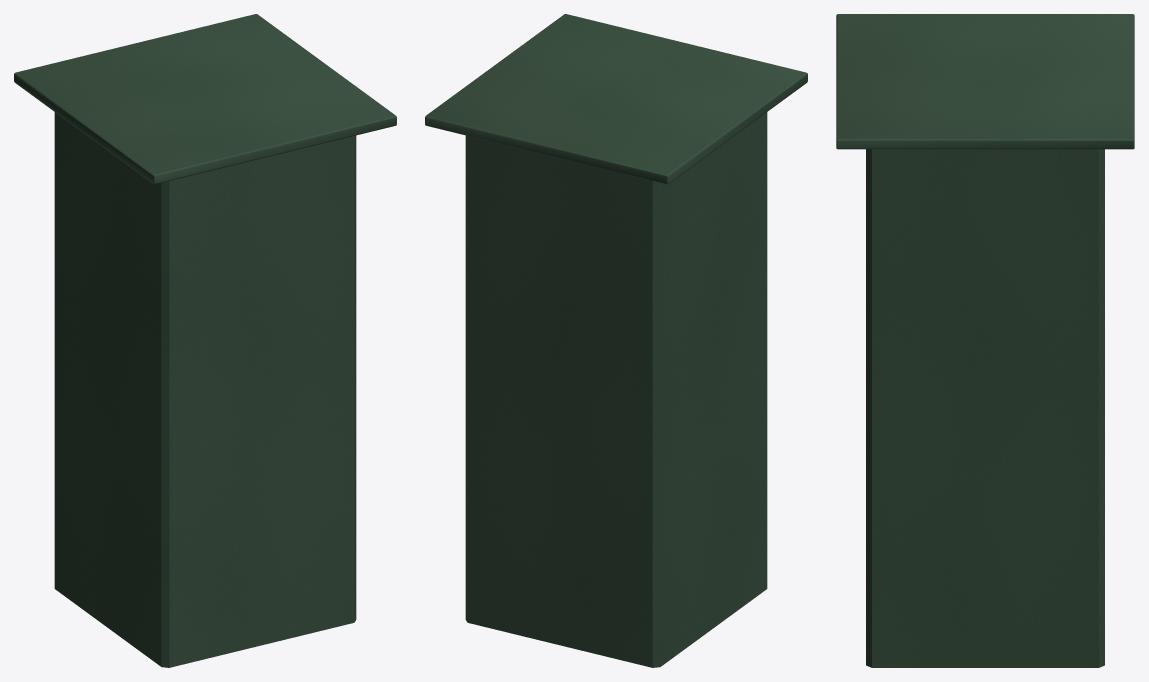
The model's file is TelescopicSupport.fbx.
3 views of the same model, side by side, from view 1: azimuth 30°, elevation 25°; view 2: azimuth 150°, elevation 25°; view 3: azimuth 270°, elevation 25° (orthographic). The views are drawn at different scales.
Visible parts, largest first — view 1: TelescopicSupport_Mesh, TelescopicSupport_Moving; view 2: TelescopicSupport_Mesh, TelescopicSupport_Moving; view 3: TelescopicSupport_Mesh, TelescopicSupport_Moving.
Part boxes in pixels (<box>): TelescopicSupport_Mesh: <box>54,112,356,667</box>; TelescopicSupport_Moving: <box>14,14,396,184</box>; TelescopicSupport_Mesh: <box>465,112,767,667</box>; TelescopicSupport_Moving: <box>425,14,807,184</box>; TelescopicSupport_Mesh: <box>866,149,1104,667</box>; TelescopicSupport_Moving: <box>836,14,1134,149</box>.
Bounding box in the file's own units: 0.3 × 0.6 × 0.3.
Materials: 1 (1 with a texture image).
